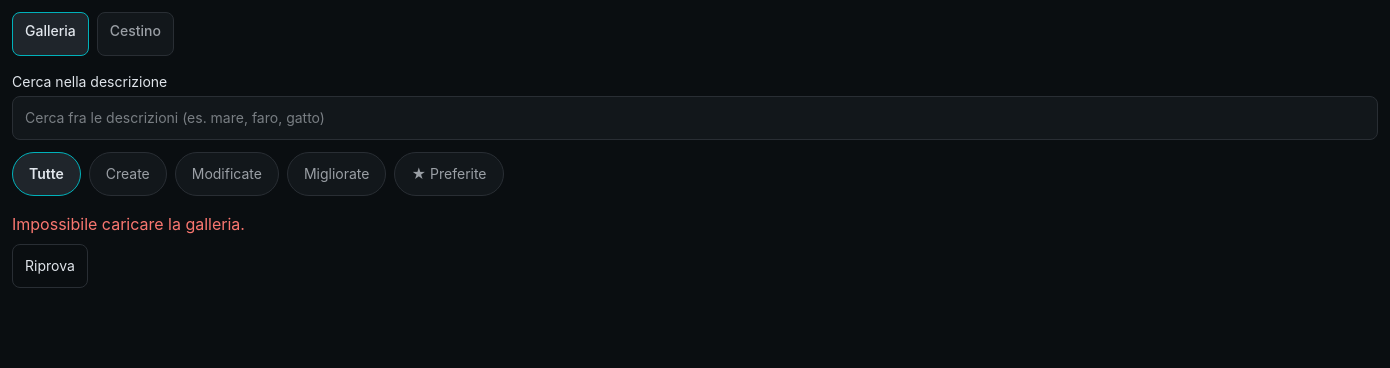
Scenario: GalleryPage › retries the failed query from scratch when Riprova is clicked
expect the text "Impossibile caricare la galleria." is shown: met, box [12,214,245,234]
Step 1. Click the button "Riprova" → (50, 266), box [12,244,88,288]
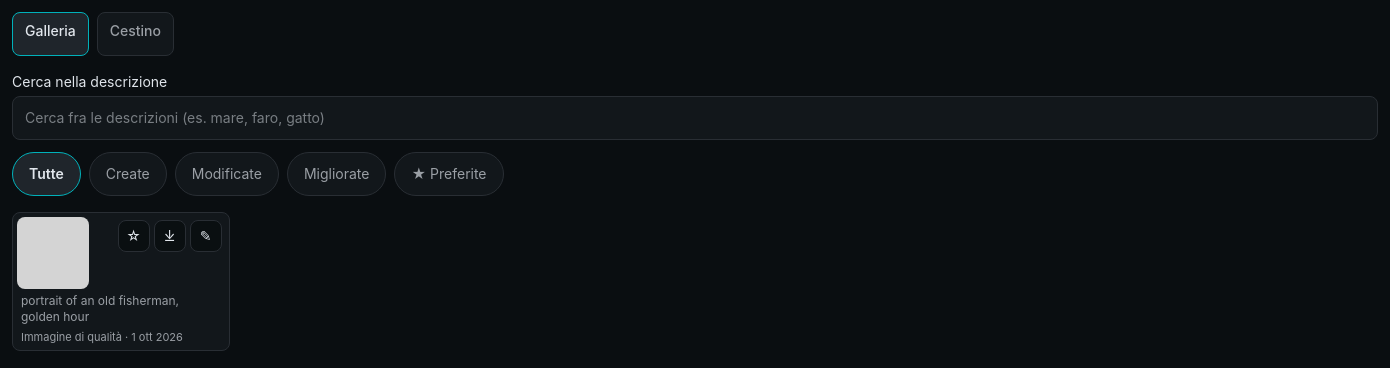
expect the text "Impossibile caricare la galleria." is gone: met
